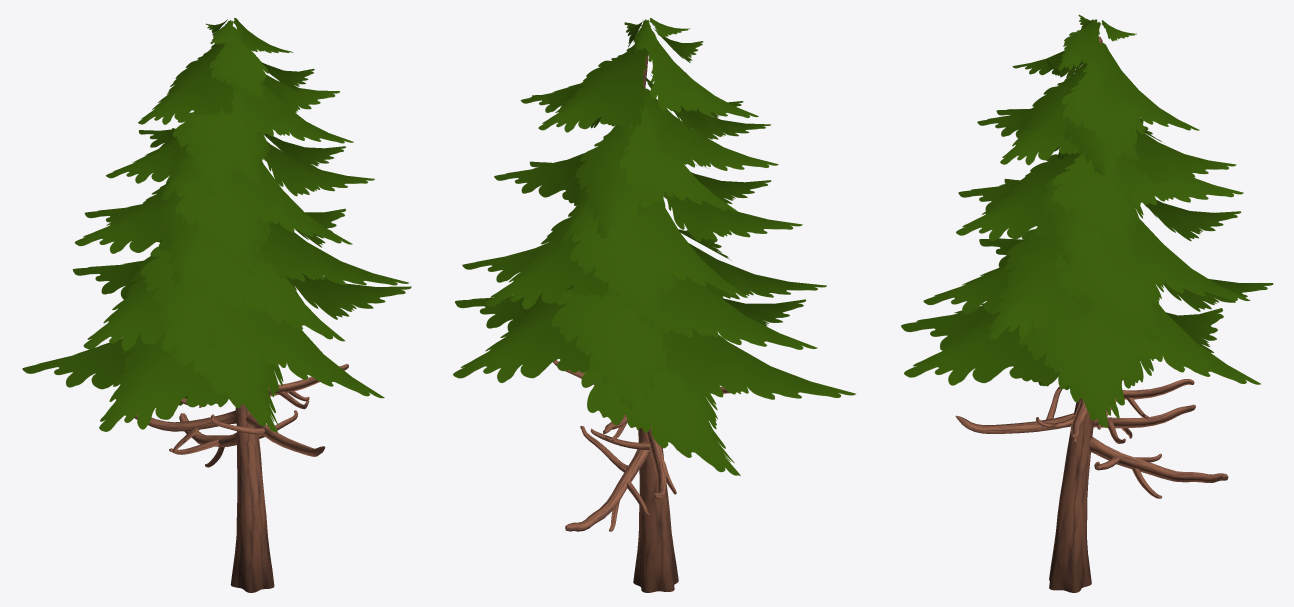
File: pine-rfnxjv0rqa-transformed.glb
3 views of the same model, side by side, from view 1: azimuth 30°, elevation 25°; view 2: azimuth 150°, elevation 25°; view 3: azimuth 270°, elevation 25° (orthographic). The views are drawn at different scales.
Visible parts, largest first — view 1: Pine_1; view 2: Pine_1; view 3: Pine_1.
Boxes of the visible parts, x1,y1,x2,y2 form: Pine_1: (22,18,411,592); Pine_1: (453,18,856,592); Pine_1: (901,14,1273,592).
Bounding box in the file's own units: 4.94 × 7.32 × 4.54.
2 materials, 2 textured.
